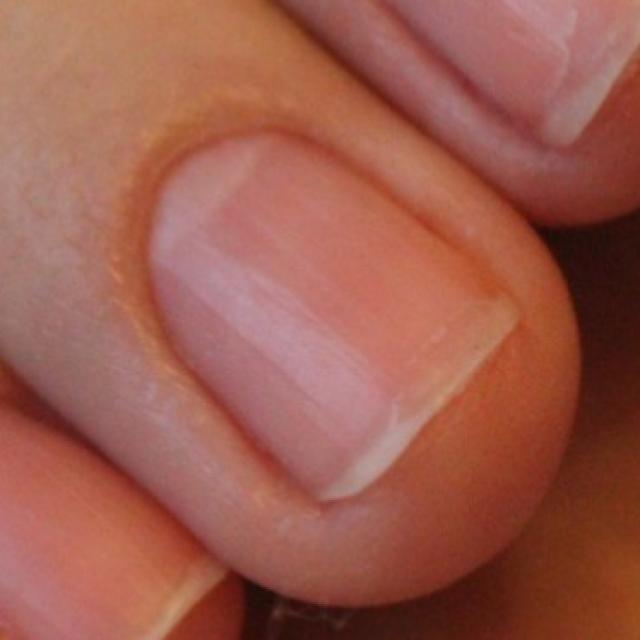Nail: (150, 136, 517, 499)
